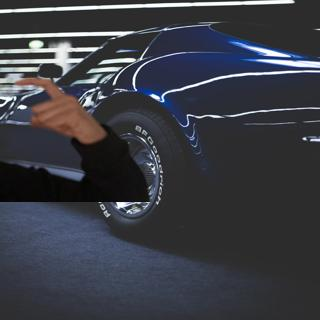WHY: (10, 75, 103, 142)
